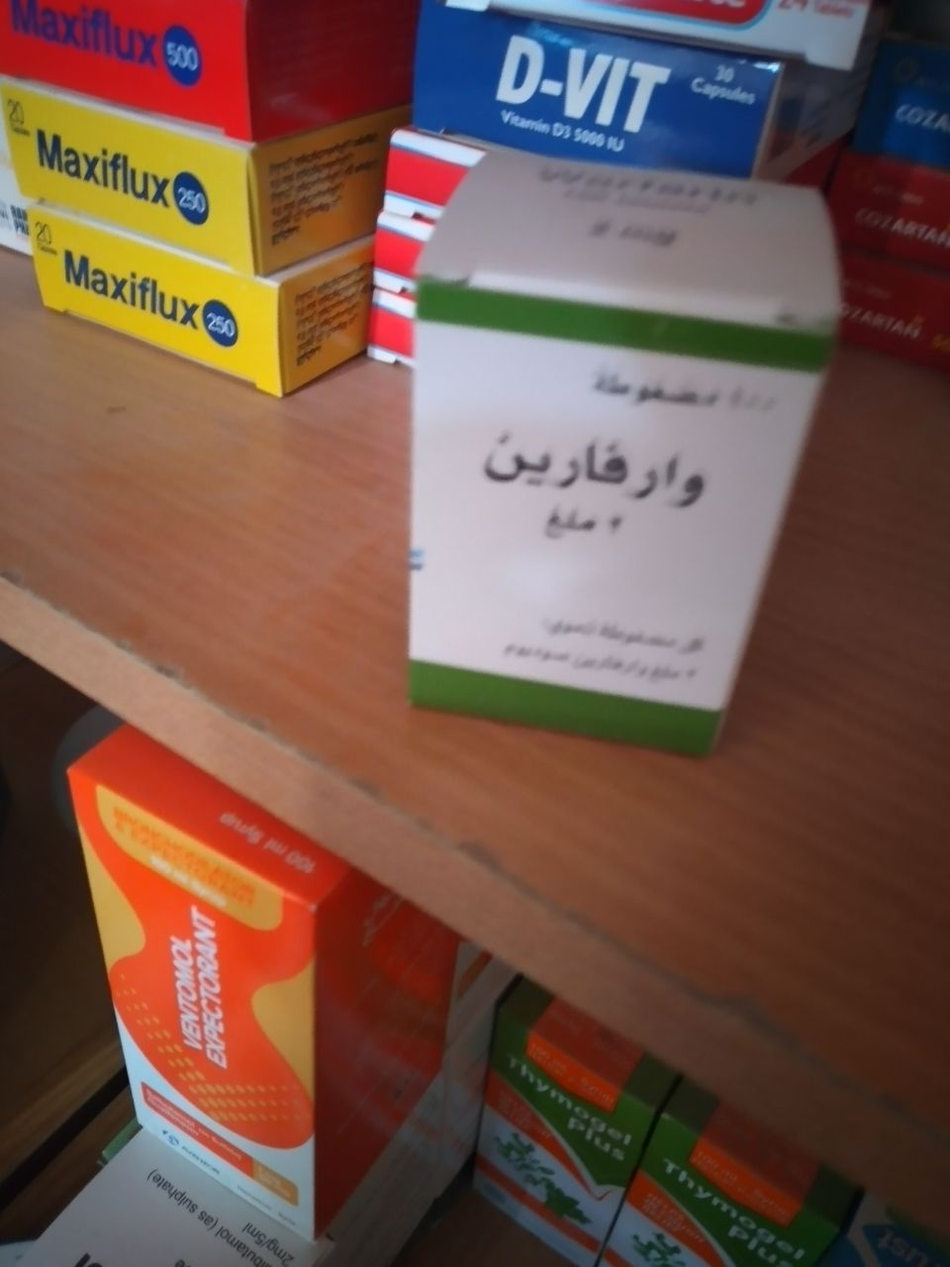Medicine: (396, 125, 838, 779), (46, 723, 468, 1267), (3, 69, 389, 251), (435, 0, 792, 178), (26, 241, 402, 393), (0, 3, 386, 129)
